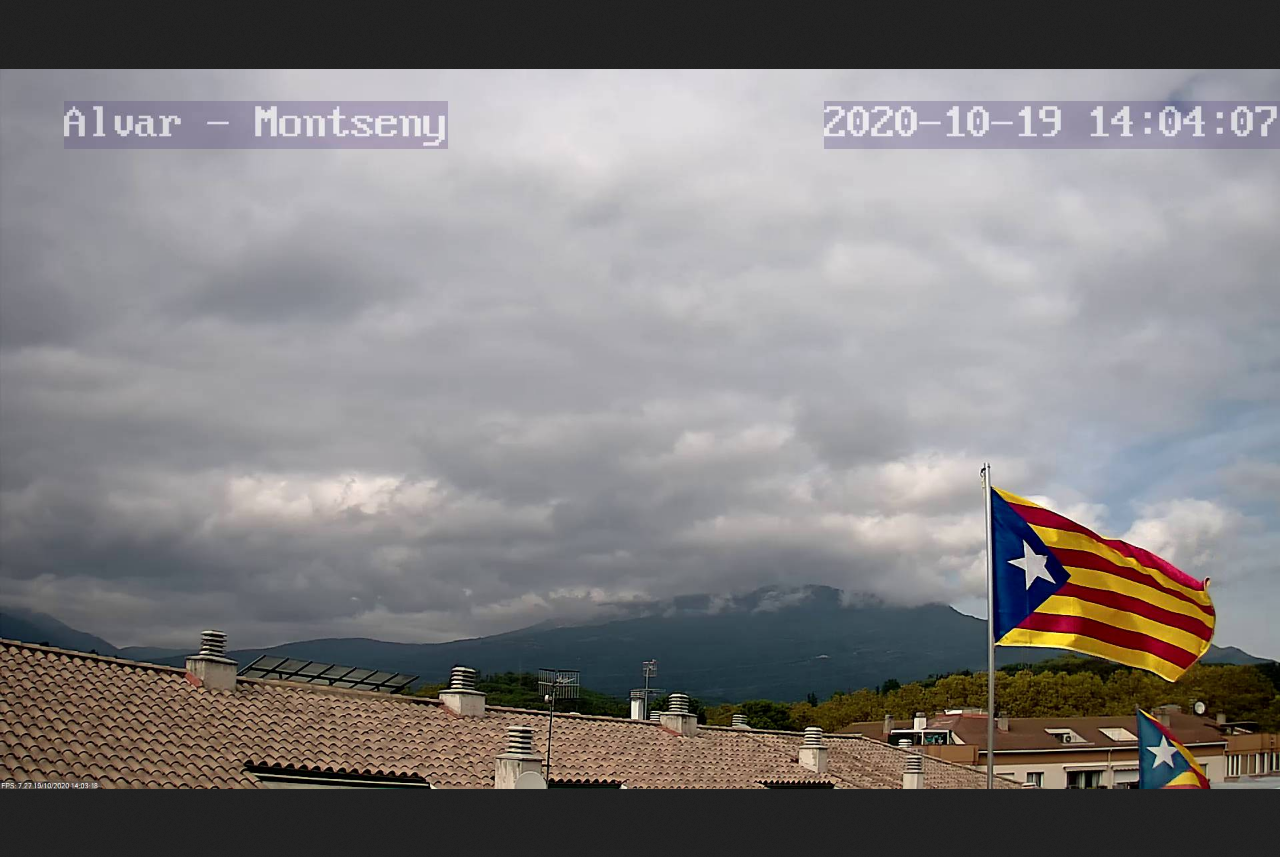maybe: (984, 486, 1220, 680)
